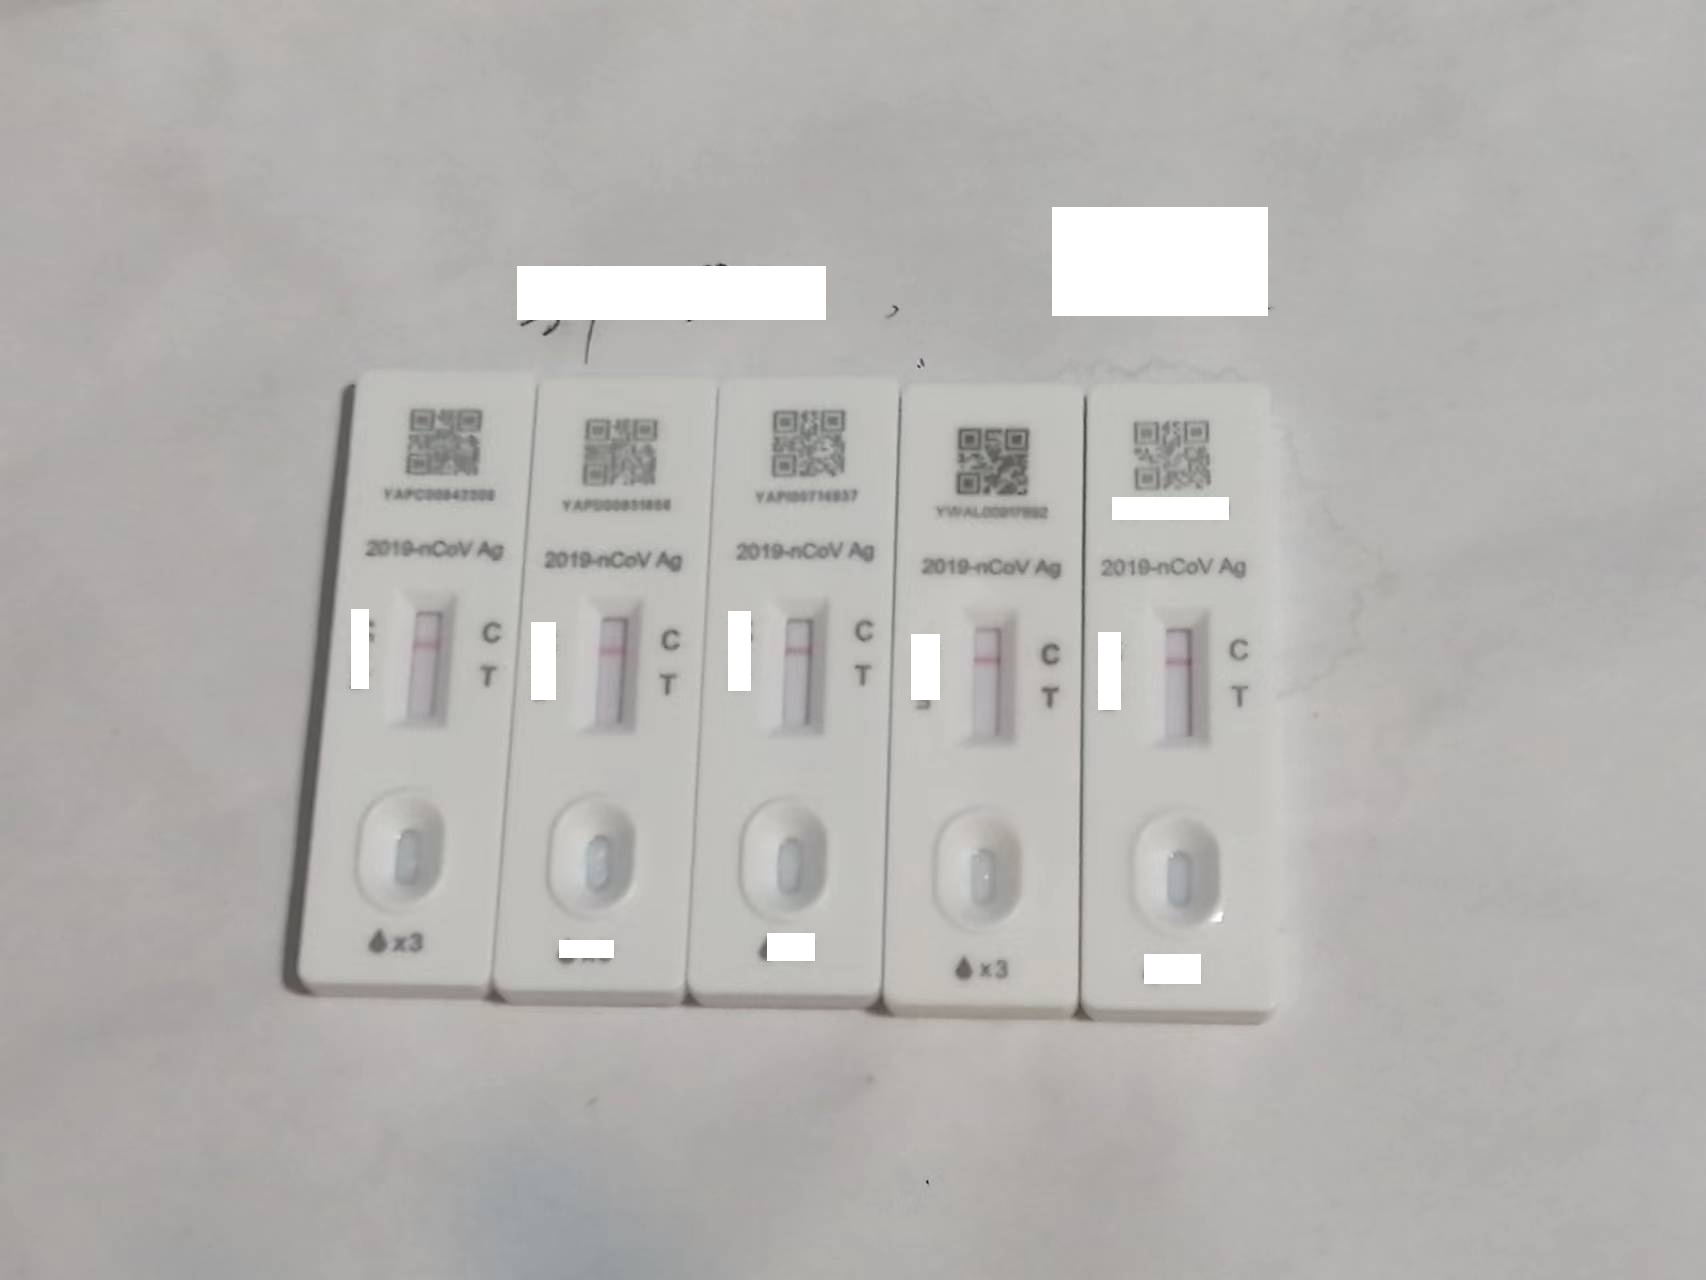negative: (1149, 604, 1211, 752), (963, 605, 1018, 749), (583, 597, 639, 734), (398, 588, 452, 727), (774, 596, 825, 738)
